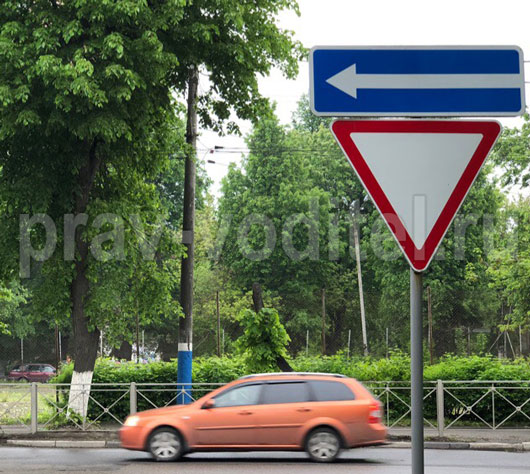One-Way Traffic: (309, 45, 524, 115)
